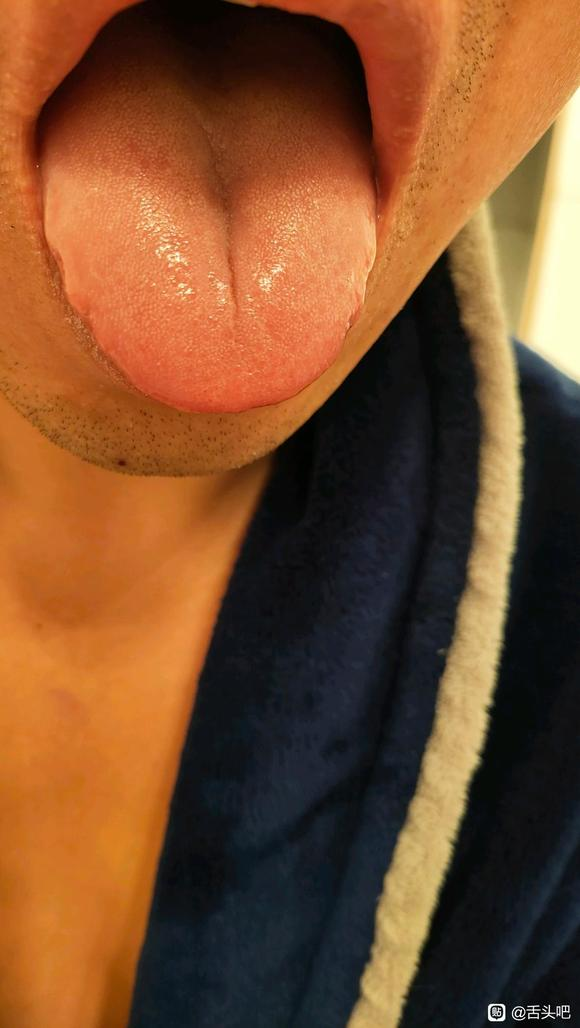chihenshe: (43, 225, 111, 356), (344, 240, 376, 347)
hongshe: (40, 45, 377, 412)
liewenshe: (194, 119, 241, 325)
